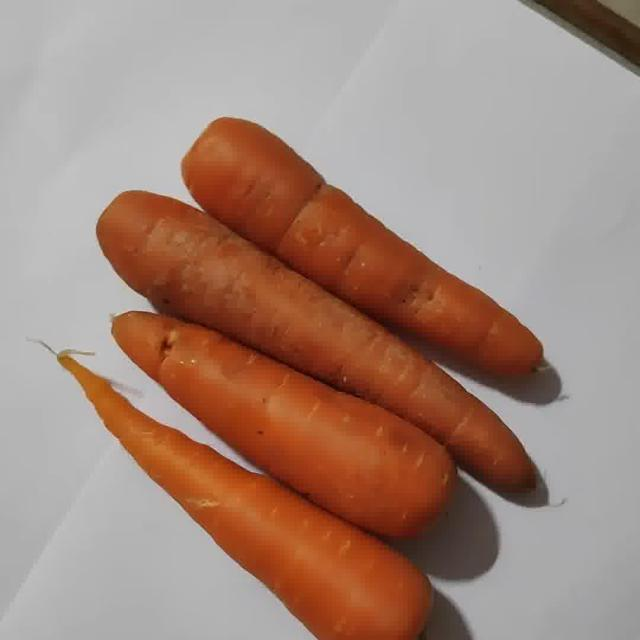Carrot: (98, 193, 533, 484), (61, 358, 430, 639), (181, 120, 543, 375), (117, 311, 453, 536)
